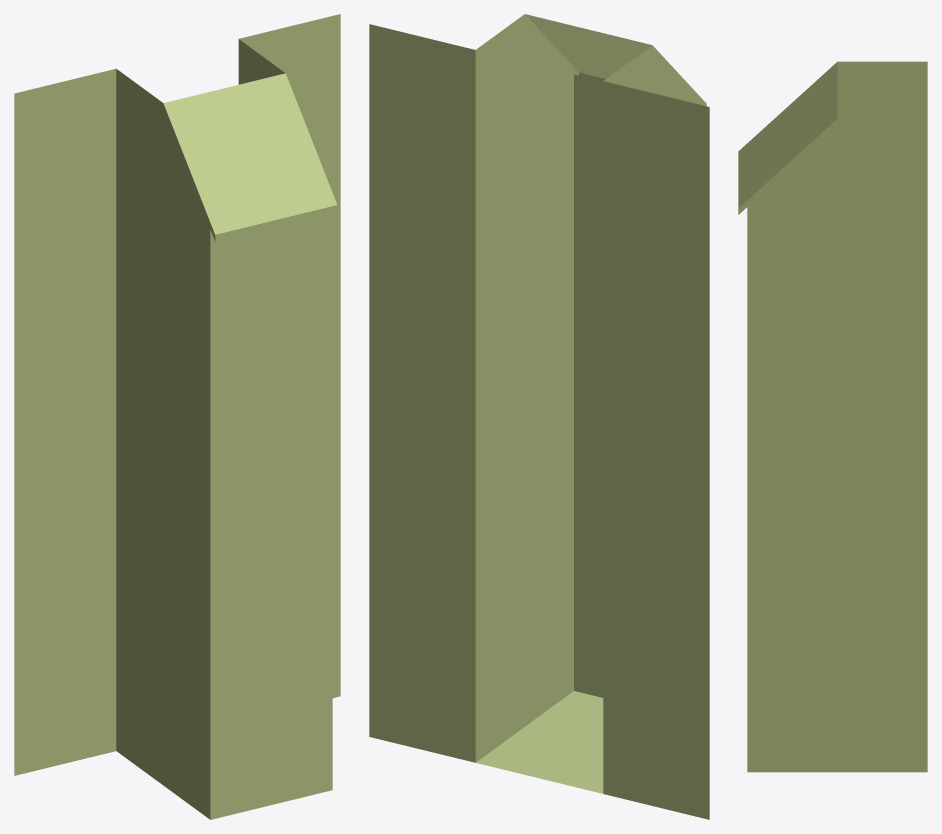
Rendered from Historic_Beam_Lower_2.0x4.0.obj.
3 views of the same model, side by side, from view 1: azimuth 30°, elevation 25°; view 2: azimuth 150°, elevation 25°; view 3: azimuth 270°, elevation 25° (orthographic). The views are drawn at different scales.
Visible parts, largest first — view 1: Historic_Beam_Lower_2.0x4.0; view 2: Historic_Beam_Lower_2.0x4.0; view 3: Historic_Beam_Lower_2.0x4.0.
Part boxes in pixels (bbox=[...]): Historic_Beam_Lower_2.0x4.0: bbox=[14, 14, 340, 819]; Historic_Beam_Lower_2.0x4.0: bbox=[369, 14, 709, 819]; Historic_Beam_Lower_2.0x4.0: bbox=[738, 61, 927, 772].
Bounding box in the file's own units: 2 × 4 × 1.05.
